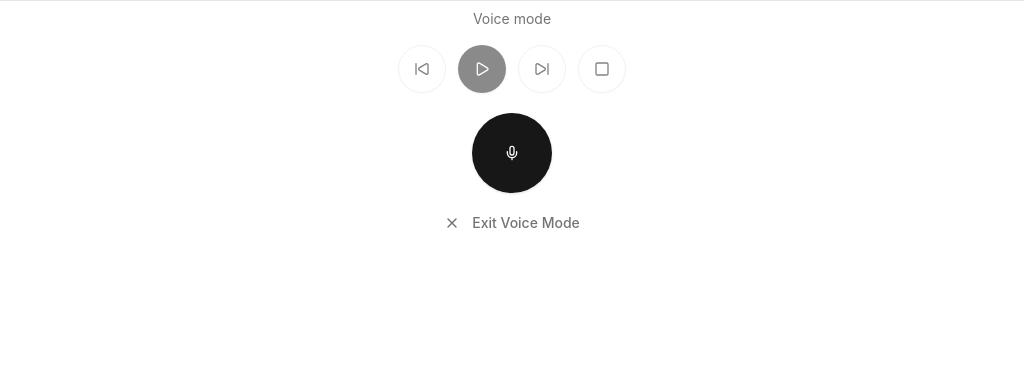
Test: VoiceControlPanel send-failure handling › cancel clears a send error
Click the button named "start recording" at [512, 153], box [472,113,552,193]
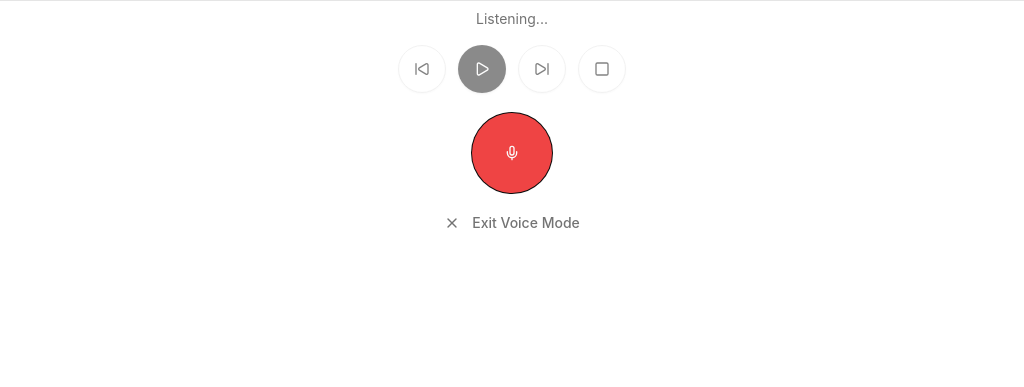
Click the button named "stop recording" at [512, 153], box [472,113,552,193]
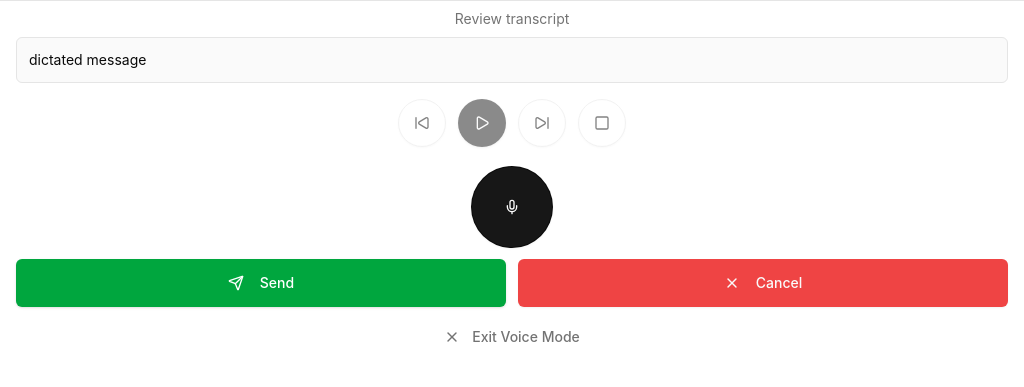
Click the button "Send" at [261, 283], box [16,259,506,307]
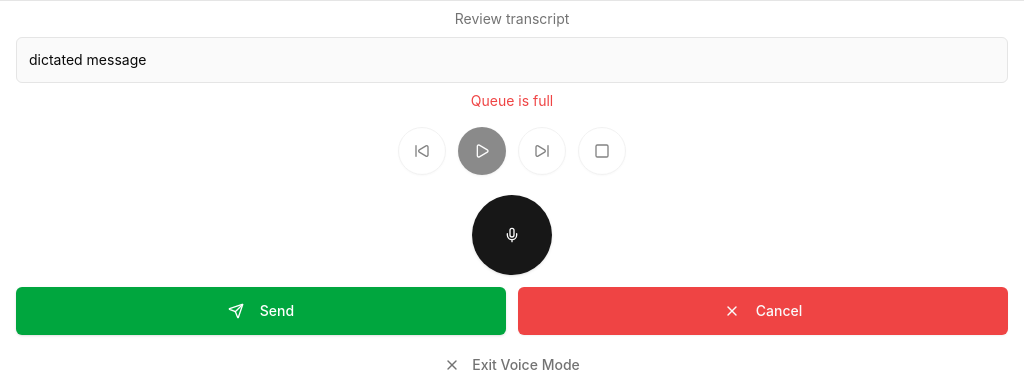
Expected: the text "Queue is full" is shown, [471,92,553,109]
Click the button "Cancel" at [763, 311], box [518,287,1008,335]
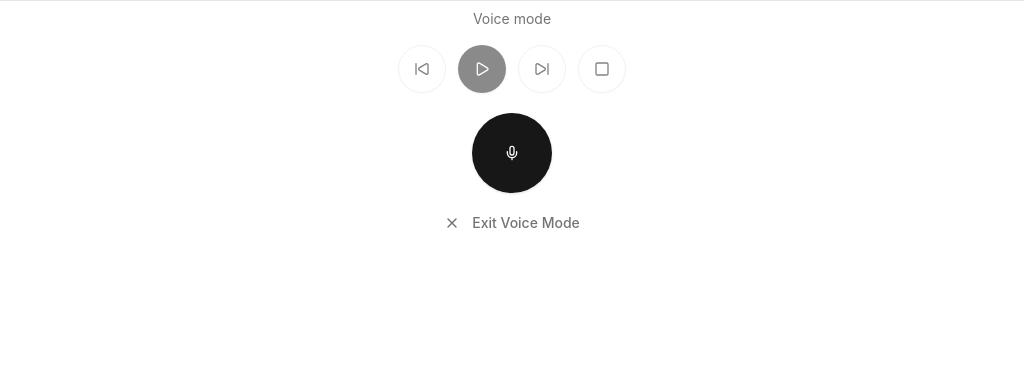
Expected: the text "Queue is full" is gone
Expected: the text "dictated message" is gone
